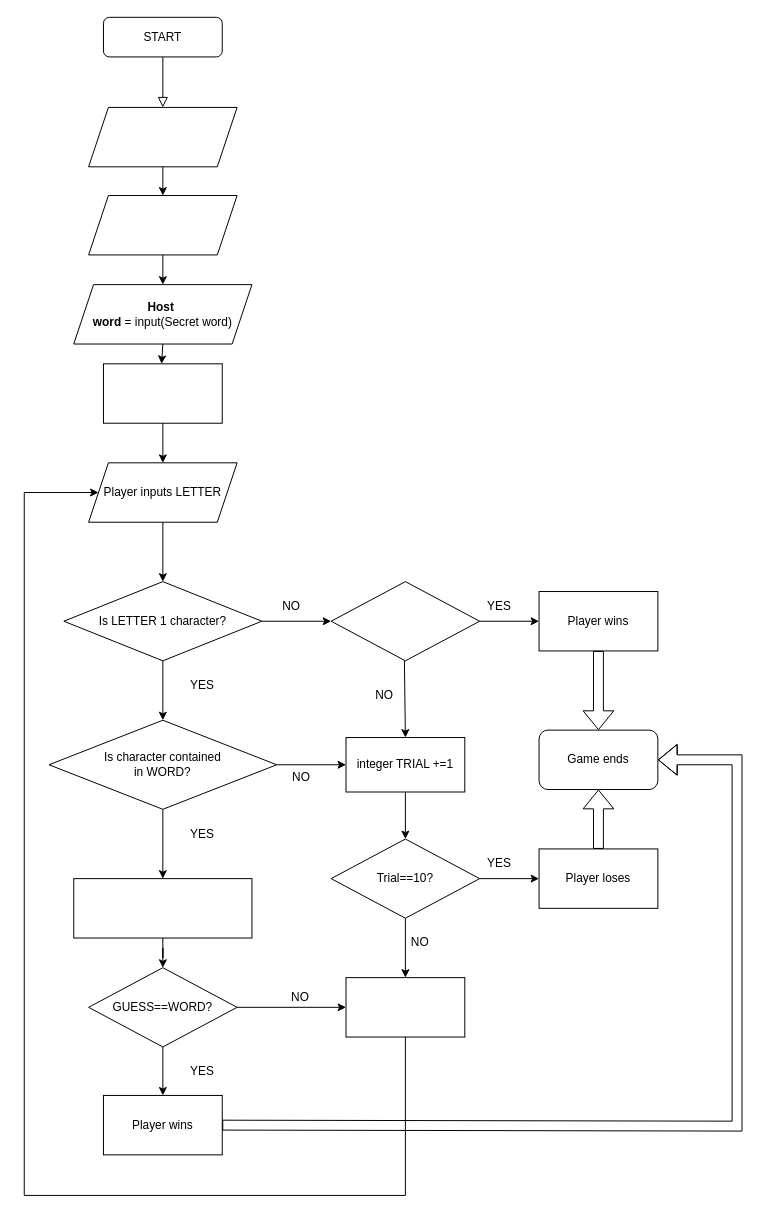
Some shapes in this 760 by 1221 pixel diagram are drawn without their labels. Each missing label, with the centre of its shape:
Display guess pattern (underscores): the point at 162,393
Game continues: the point at 405,1007
Is character string = WORD?: the point at 405,621
LETTER replace underscore in GUESS at the same position: the point at 162,908
Output: randomly picks up Host & Player: the point at 162,225
Player1=input(name) Player2=input(name): the point at 162,136
